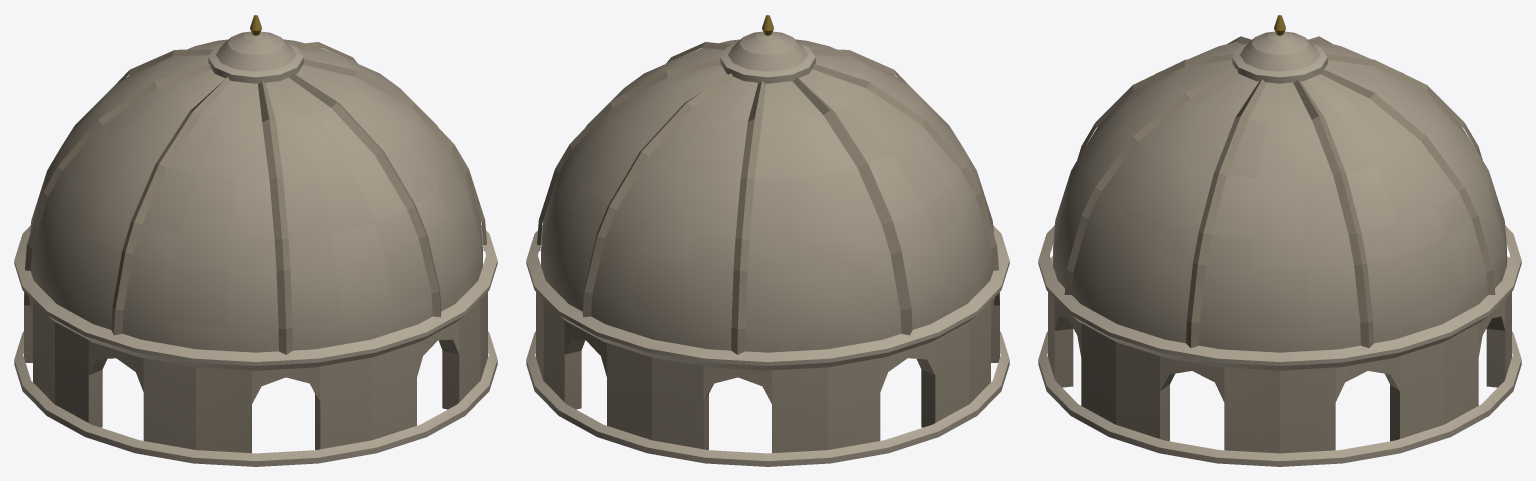
The model's file is dome.hall_8.stone.glb.
The picture shows the model from 3 angles, left to right: view 1: azimuth 30°, elevation 25°; view 2: azimuth 150°, elevation 25°; view 3: azimuth 270°, elevation 25°; orthographic projection.
Visible parts, largest first — view 1: dome_hall_8_stone; view 2: dome_hall_8_stone; view 3: dome_hall_8_stone.
Part boxes in pixels (bbox=[...]): dome_hall_8_stone: bbox=[14, 15, 497, 466]; dome_hall_8_stone: bbox=[526, 15, 1009, 466]; dome_hall_8_stone: bbox=[1038, 15, 1521, 466].
Size of what is drawn, in the model's own units: 15.2 by 12.15 by 15.2.
